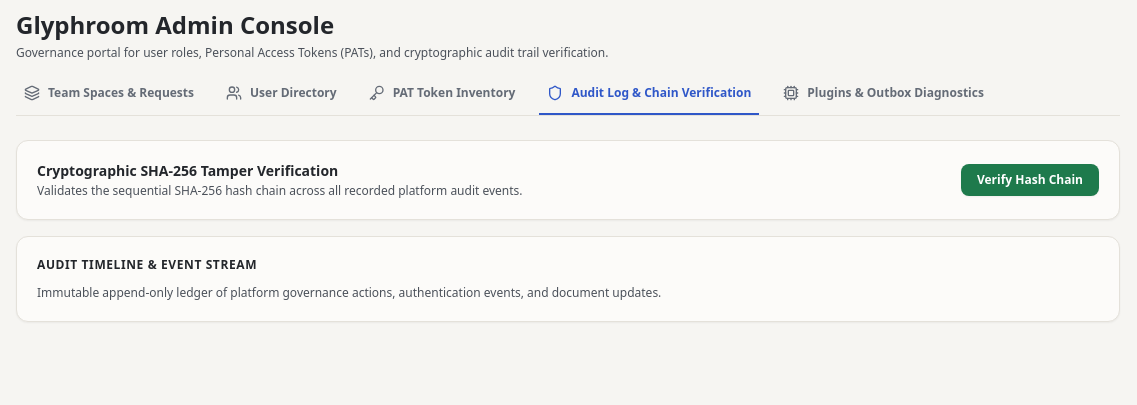
Scenario: AdminView Component & Cryptographic Hash Chain Verification › Hash Chain Verification — Genuine Success Handling › displays success banner when audit verification returns valid: true
Click the button "Verify Hash Chain" at (1030,180), box 961,164 -> 1099,196
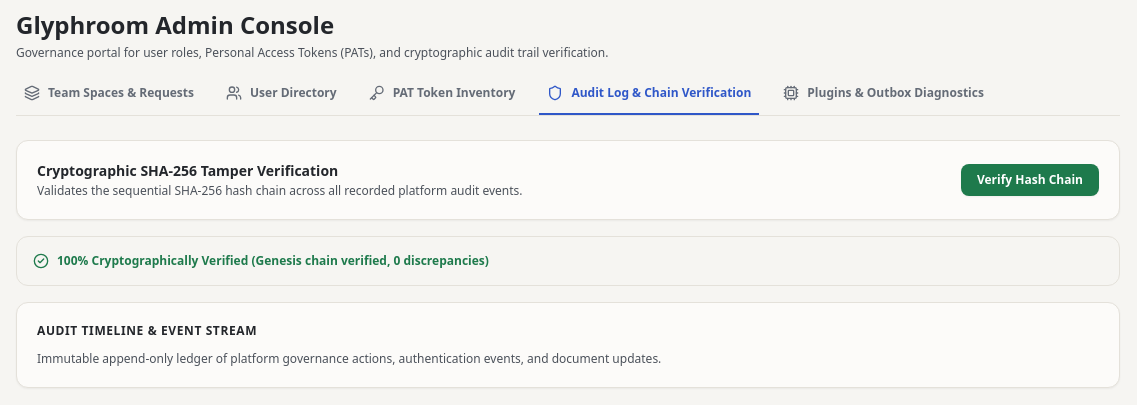
Expected: the text "100% Cryptographically Verified (Genesis chain verified, 0 discrepancies)" is shown, 57,253 -> 489,269
